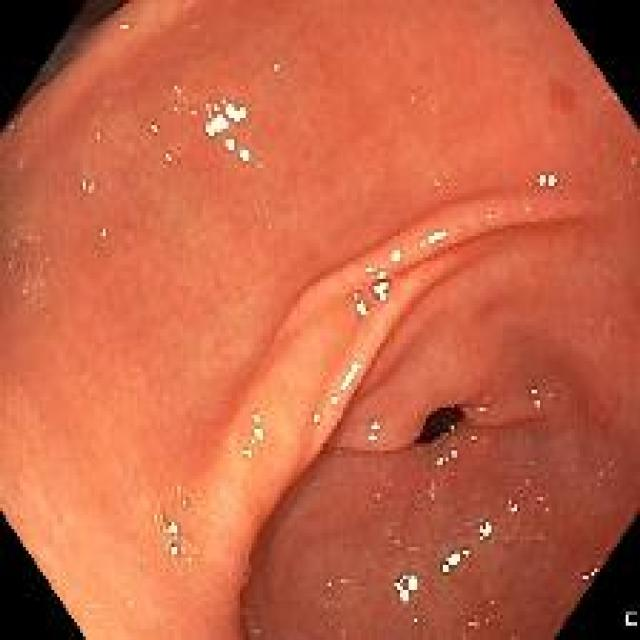bubbles: (159, 489, 204, 546), (339, 286, 376, 318), (245, 411, 275, 448), (579, 564, 602, 587)
contrast: (418, 401, 465, 448)
specularity: (200, 93, 252, 140), (150, 517, 187, 560), (392, 571, 419, 611), (438, 552, 474, 575), (417, 227, 449, 252), (341, 362, 360, 394), (79, 176, 104, 198), (95, 218, 112, 246), (537, 167, 556, 191), (5, 117, 23, 142), (387, 246, 408, 267), (144, 117, 164, 136), (90, 127, 108, 148), (477, 518, 492, 543), (159, 144, 173, 170), (366, 423, 381, 446), (240, 145, 255, 167), (580, 567, 599, 584), (321, 574, 337, 593), (448, 446, 464, 464), (116, 18, 132, 35), (355, 299, 368, 319), (273, 58, 284, 81), (361, 263, 377, 278), (530, 394, 544, 411), (225, 135, 238, 152), (171, 82, 183, 100), (528, 382, 540, 400), (375, 289, 390, 303), (373, 268, 390, 280), (476, 403, 490, 417), (241, 446, 254, 460), (433, 455, 444, 471), (254, 427, 265, 442), (187, 109, 199, 122), (310, 413, 321, 427), (178, 498, 189, 511), (173, 484, 182, 499), (250, 412, 262, 423), (331, 395, 340, 409), (351, 293, 362, 303)
